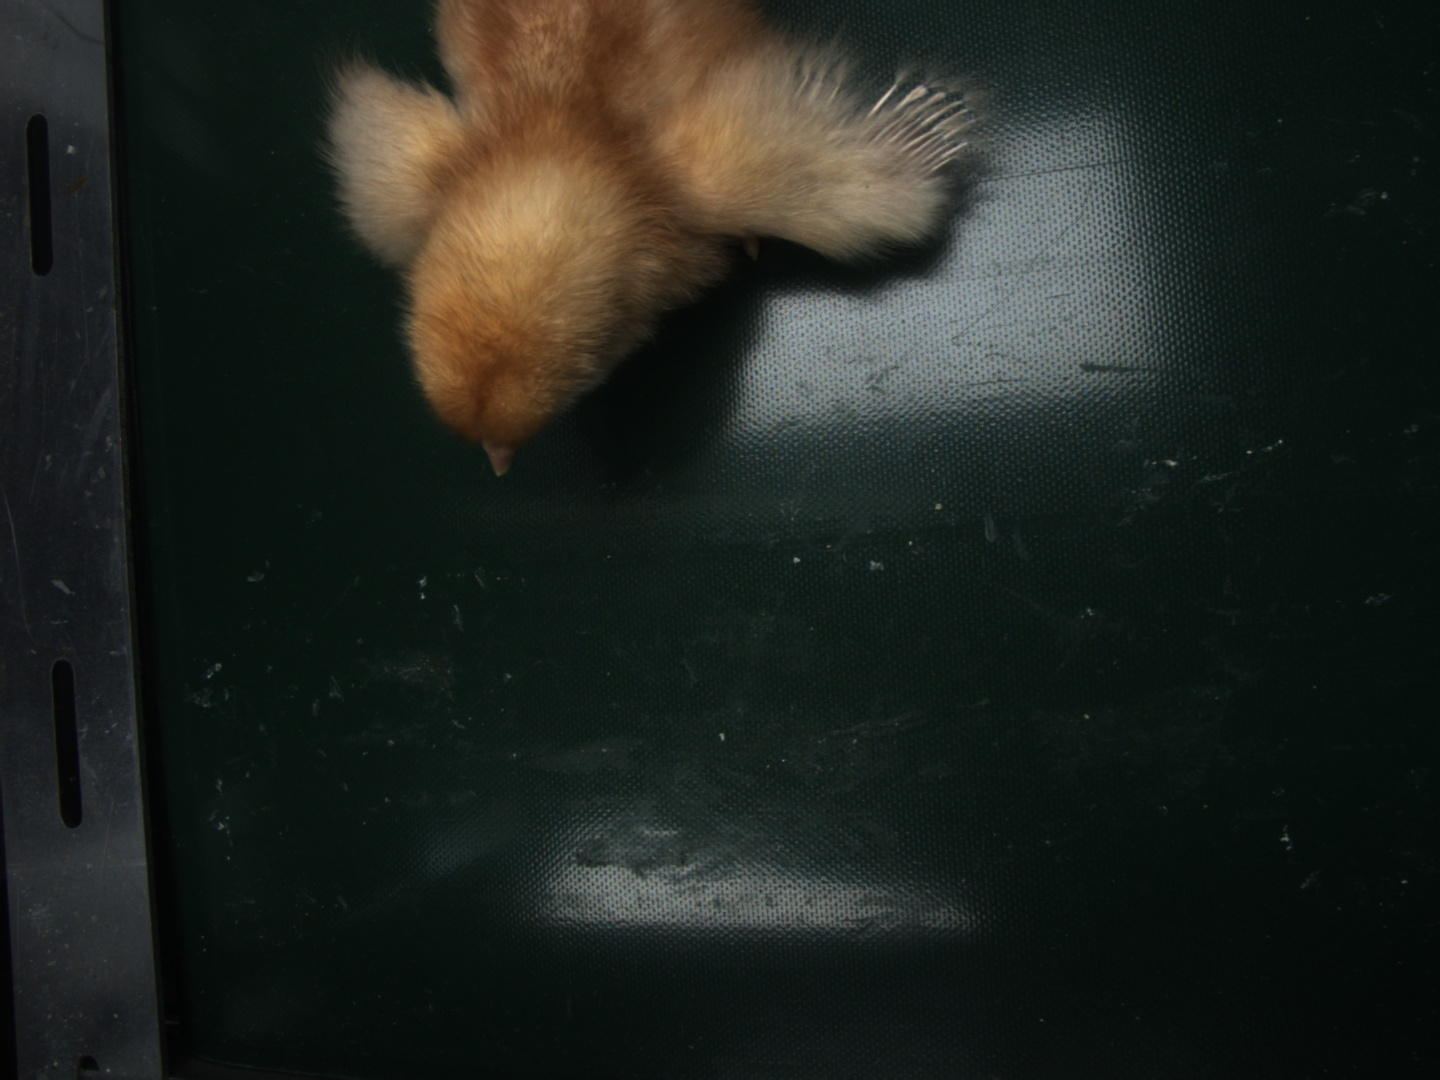female: (865, 84, 973, 174)
